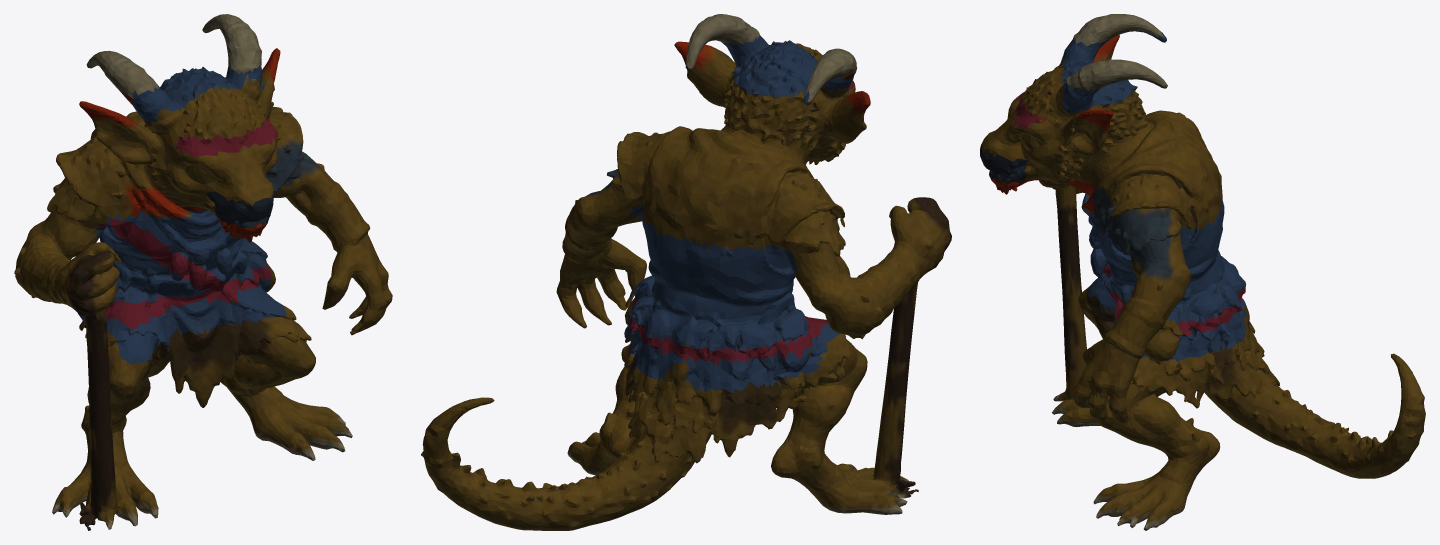
File: kobold_ninja.glb
3 renders of one model, left to right at view 1: azimuth 30°, elevation 25°; view 2: azimuth 150°, elevation 25°; view 3: azimuth 270°, elevation 25°, orthographic. The views are drawn at different scales.
Parts seen in each view (by area): view 1: Kobold original; view 2: Kobold original; view 3: Kobold original.
Part boxes in pixels (box(x1,y1,x2,y2)): Kobold original: box(14, 14, 392, 530); Kobold original: box(421, 14, 951, 530); Kobold original: box(980, 14, 1425, 530).
Size of the model in its own units: 1.61 by 1.96 by 1.91.
Materials: 4 (1 with a texture image).
